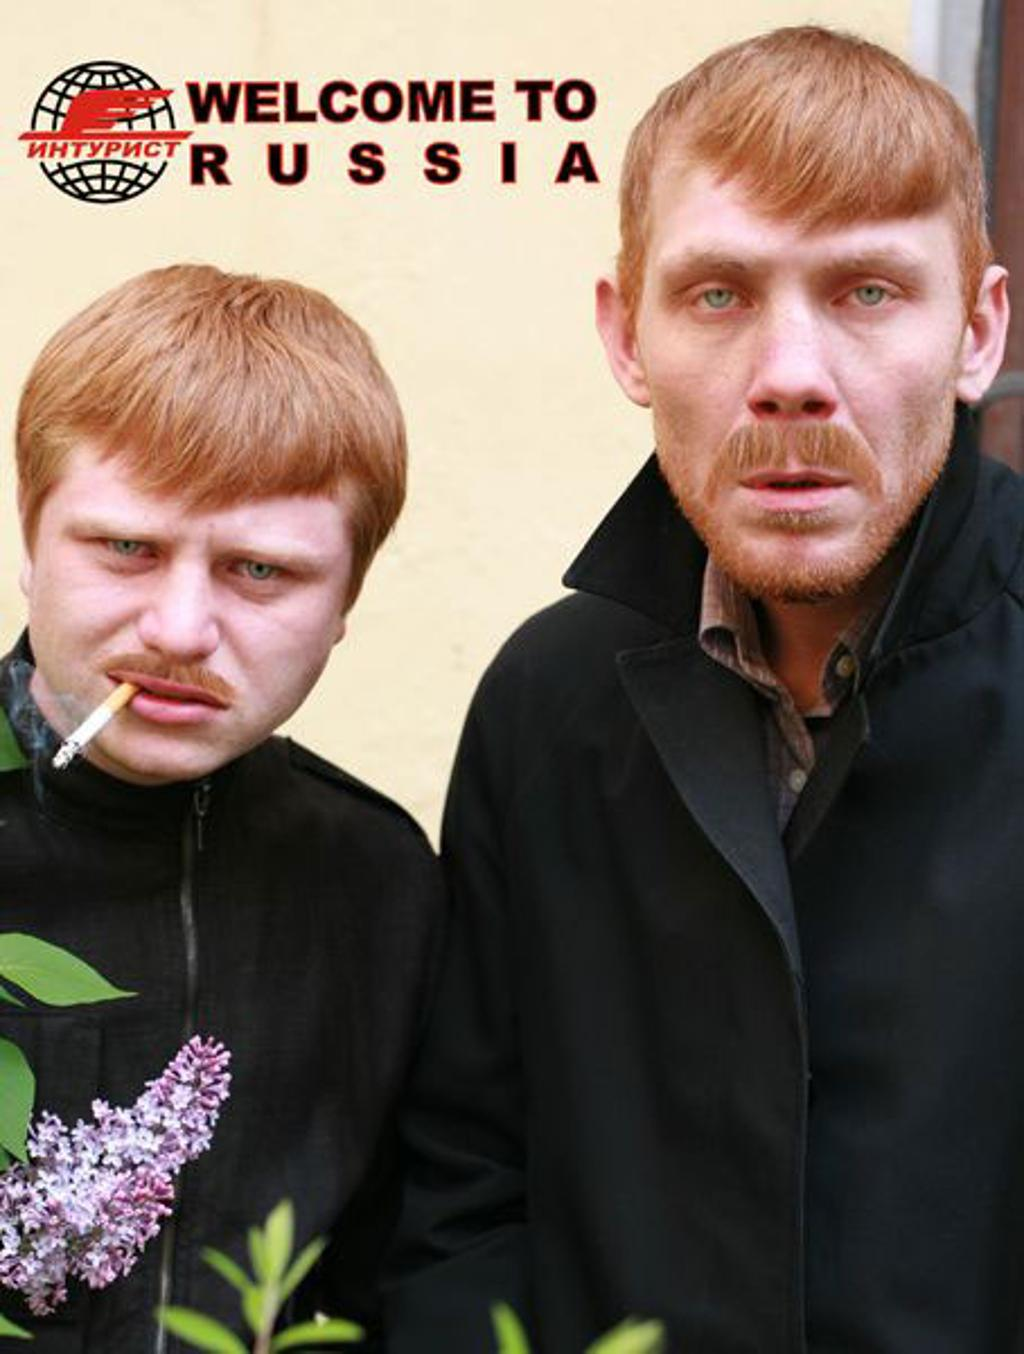face: (635, 124, 963, 598), (34, 384, 349, 778)
